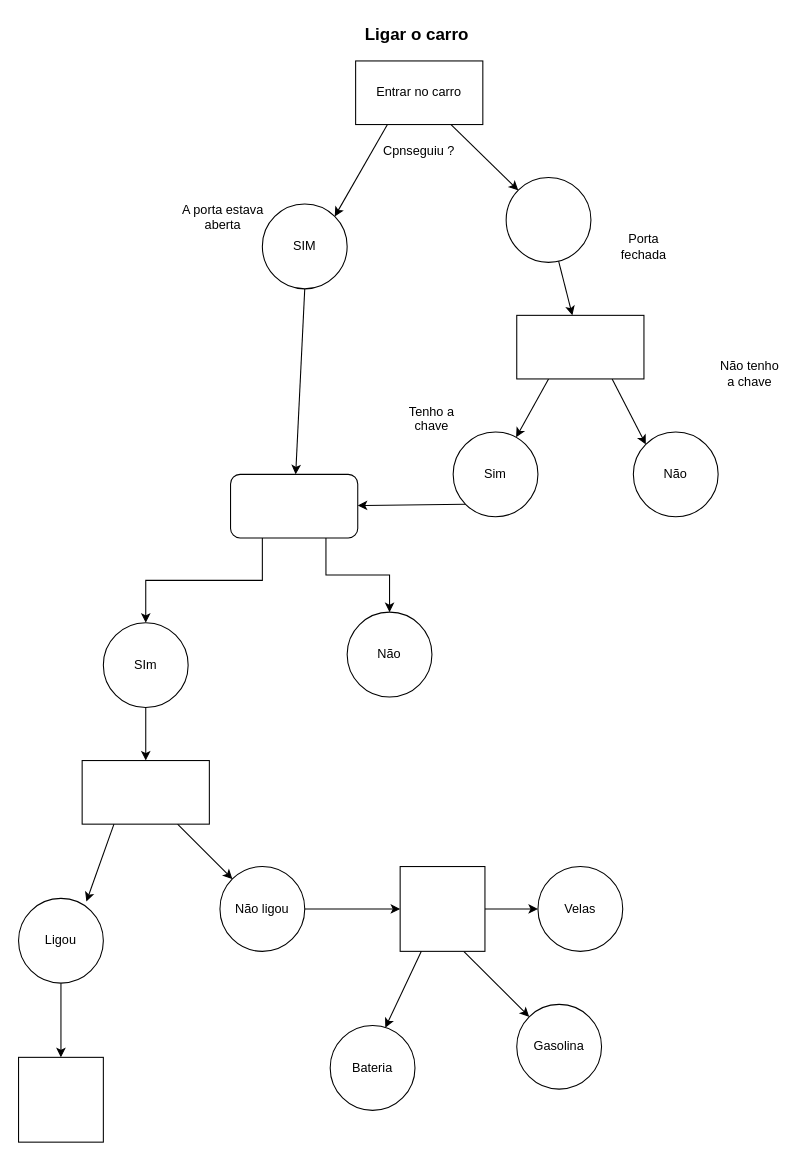
This 800x1161 diagram has some shape labels left out. Each missing label, with the centre of its shape:
"Abrir a porta" belongs at (580,346).
"Fim" belongs at (60,1099).
"Girar ignição" belongs at (145,791).
"NÂO" belongs at (548,219).
"Sentar no banco" belongs at (293,505).
"Verificar" belongs at (442,908).
